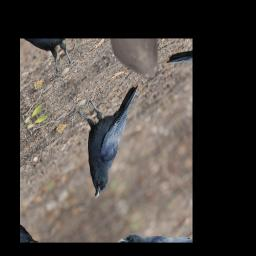Crow: (55, 66, 167, 200)
